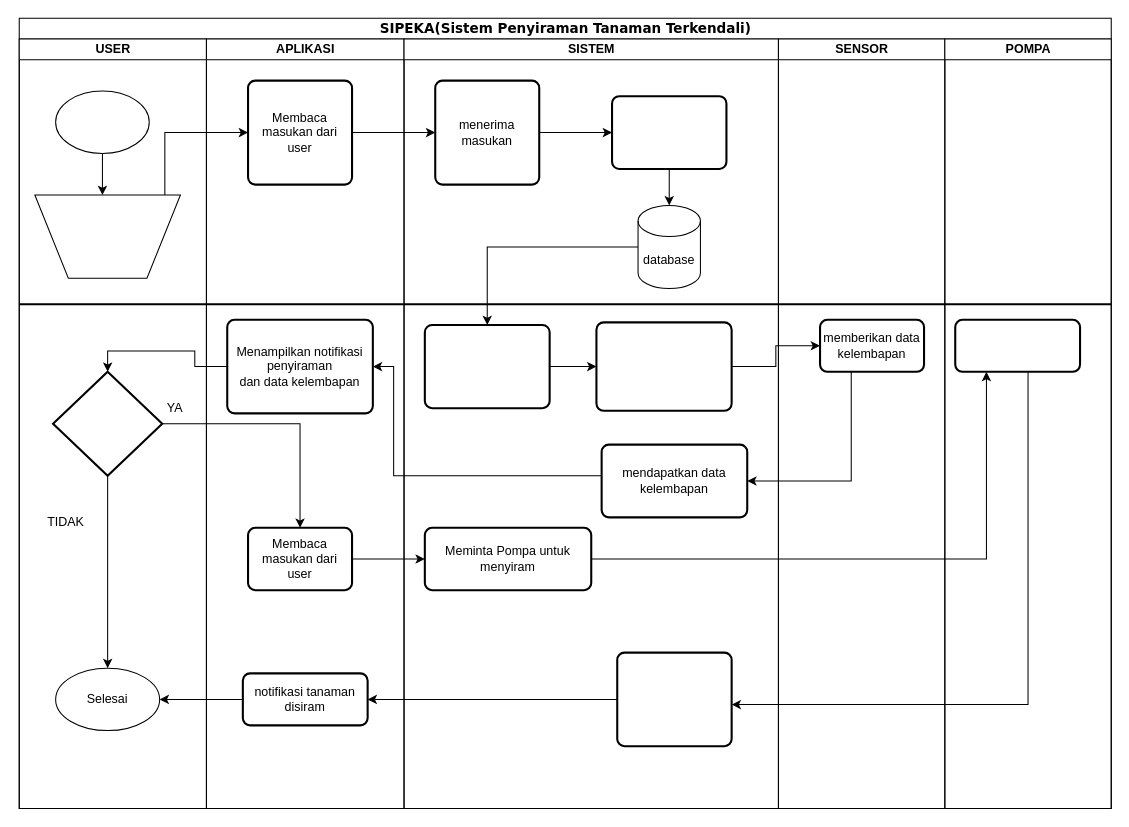
The diagram is 1129 pixels wide and 827 high, and some of its shapes have lost their labels. The shapes that lost their labels are listed below. From the top down, each one's centre as x and y in pixels, then its label:
At pixel 102 121: "Mulai".
At pixel 668 132: "menyimpan masukan ke database".
At pixel 107 236: "memasukan data penyiraman".
At pixel 1017 345: "Menyiram Tanaman".
At pixel 486 366: "membaca dan memproses sesuai data yang ada di database".
At pixel 663 366: "meminta data pada sensor".
At pixel 107 423: "Menyiram?".
At pixel 674 699: "menerima data pompa mati".
